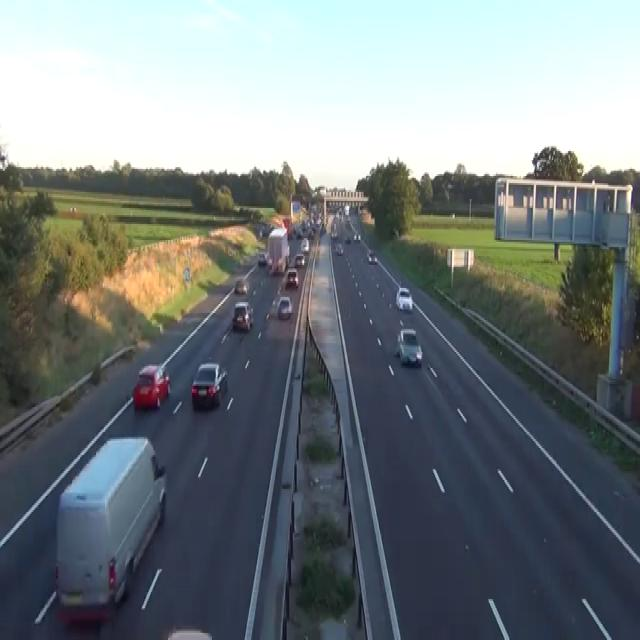Car: (190, 361, 227, 409), (133, 363, 170, 409), (396, 327, 422, 366), (232, 300, 253, 330), (167, 626, 212, 638), (395, 286, 413, 311), (277, 295, 292, 320), (284, 267, 299, 288), (234, 278, 248, 294), (393, 330, 401, 356), (259, 222, 273, 236), (366, 247, 377, 263), (294, 252, 306, 266), (300, 236, 309, 252), (257, 251, 266, 265), (335, 242, 343, 254), (366, 247, 373, 260), (353, 231, 361, 242), (327, 202, 335, 212), (266, 254, 272, 267), (331, 228, 338, 238), (307, 228, 314, 238), (295, 228, 302, 238), (320, 224, 326, 235), (344, 234, 351, 243), (392, 228, 399, 236), (68, 206, 77, 212), (344, 217, 350, 226), (259, 226, 264, 236)
Truck: (54, 434, 166, 626), (267, 226, 289, 274)
